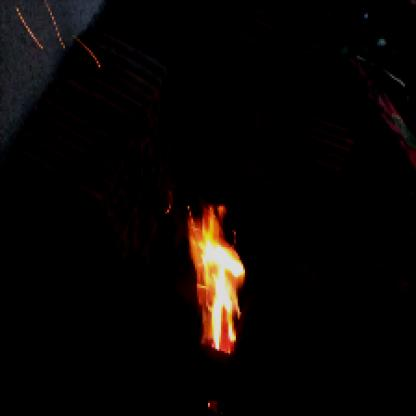Fire: (176, 193, 254, 359)
